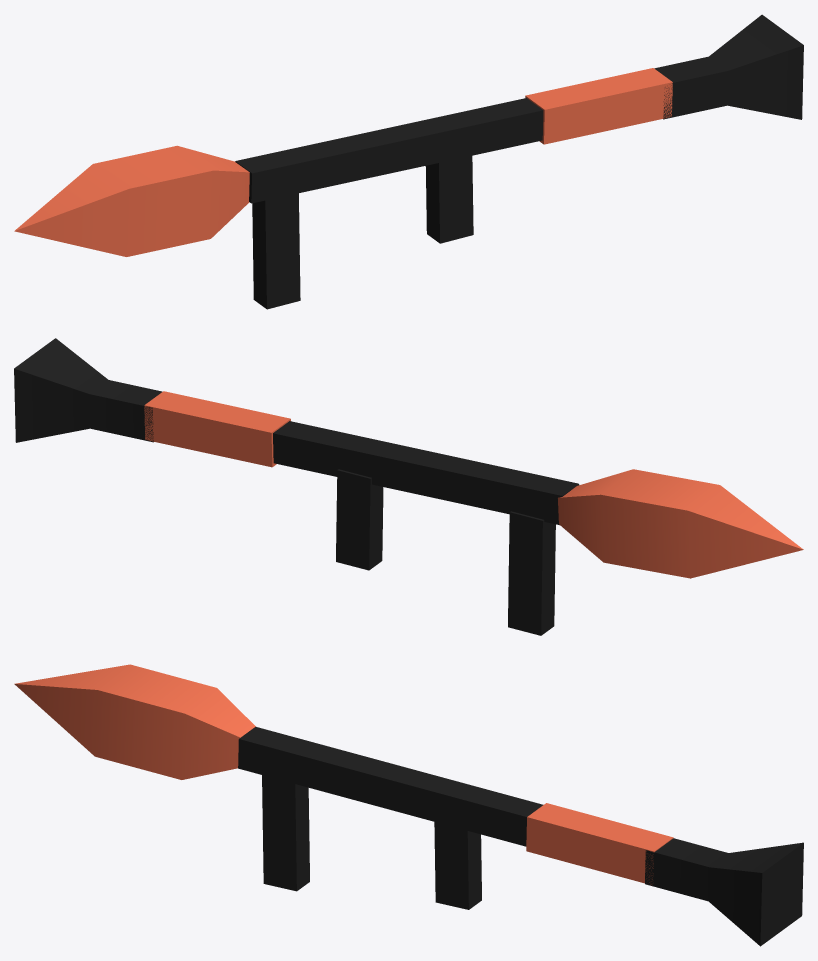
The model's file is rocket luncher.FBX.
3 renders of one model, top to bottom at view 1: azimuth 30°, elevation 25°; view 2: azimuth 150°, elevation 25°; view 3: azimuth 330°, elevation 25°, orthographic.
Visible parts, largest first — view 1: Box014, Box015, Box019, Box018, Box016, Box017; view 2: Box014, Box015, Box019, Box018, Box016, Box017; view 3: Box014, Box015, Box019, Box018, Box016, Box017.
Boxes of the visible parts, x1,y1,x2,y2 form: Box014: (14, 145, 249, 256); Box015: (235, 98, 543, 203); Box019: (654, 14, 803, 119); Box018: (525, 68, 672, 144); Box016: (252, 193, 300, 309); Box017: (425, 156, 473, 243); Box014: (558, 469, 803, 578); Box015: (273, 421, 579, 525); Box019: (14, 338, 162, 442); Box018: (144, 391, 290, 467); Box016: (508, 511, 555, 635); Box017: (336, 469, 383, 570); Box014: (14, 664, 255, 779); Box015: (238, 726, 543, 846); Box019: (645, 838, 803, 946); Box018: (526, 803, 673, 885); Box016: (262, 775, 309, 891); Box017: (434, 822, 481, 909).
Bounding box in the file's own units: 24.41 × 5.1 × 2.3.
